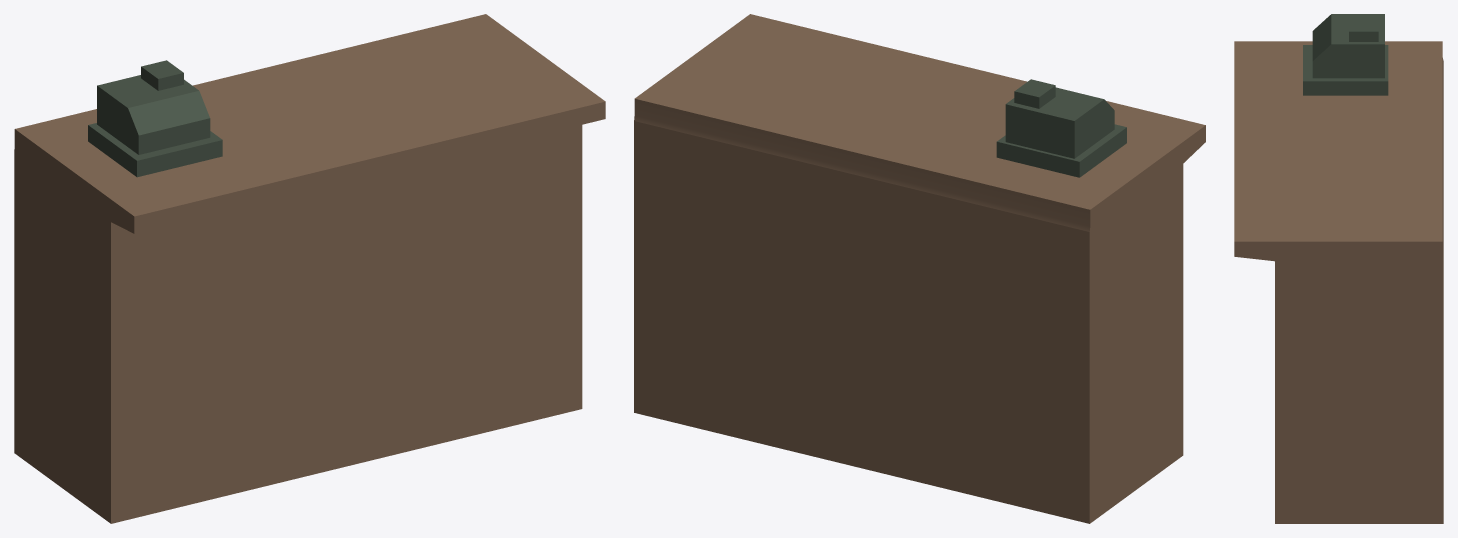
File: tillcounterTESTER.fbx
3 renders of one model, left to right at view 1: azimuth 30°, elevation 25°; view 2: azimuth 150°, elevation 25°; view 3: azimuth 270°, elevation 25°, orthographic. The views are drawn at different scales.
Visible parts, largest first — view 1: pCube1, pCube2; view 2: pCube1, pCube2; view 3: pCube1, pCube2.
Part boxes in pixels (x1,y1,x2,y2): pCube1: [14, 14, 605, 523]; pCube2: [88, 60, 222, 177]; pCube1: [634, 14, 1205, 523]; pCube2: [996, 79, 1126, 177]; pCube1: [1234, 41, 1443, 523]; pCube2: [1303, 14, 1388, 95].
Size of the model in its own units: 8.97 by 7.13 by 3.96.
